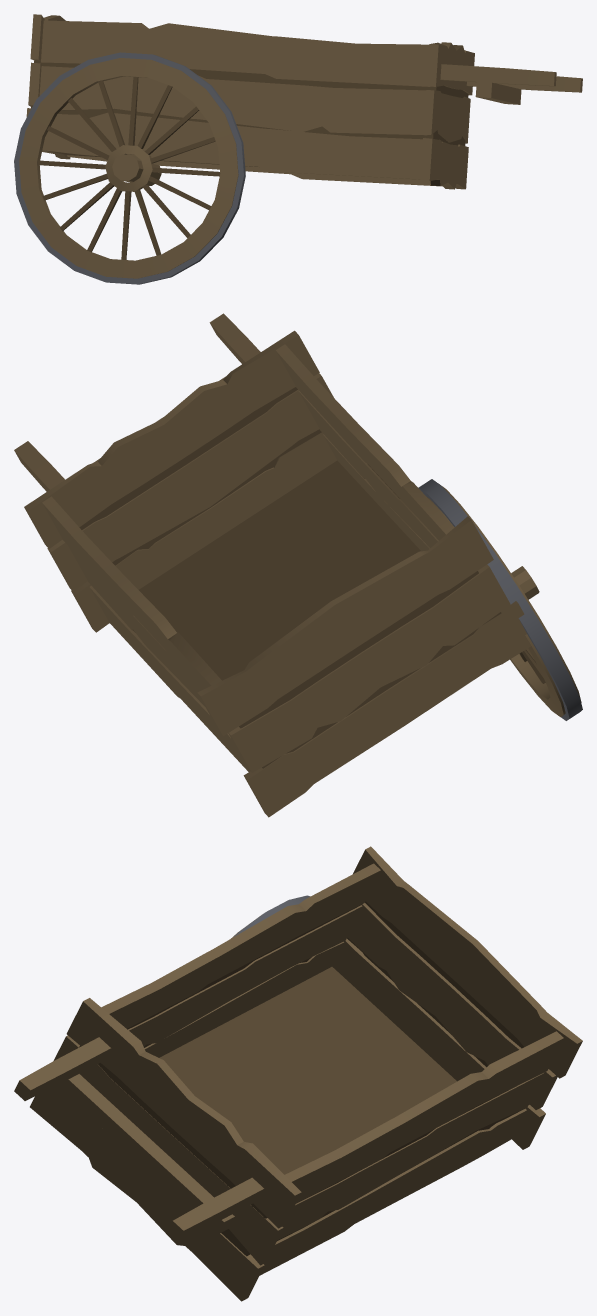
File: Cart.glb
3 renders of one model, top to bottom at view 1: azimuth 30°, elevation 25°; view 2: azimuth 150°, elevation 25°; view 3: azimuth 270°, elevation 25°, orthographic. The views are drawn at different scales.
Parts seen in each view (by area): view 1: Cart; view 2: Cart; view 3: Cart.
Part boxes in pixels (left/top/right/bottom): Cart: left=14, top=14, right=582, bottom=284; Cart: left=14, top=313, right=582, bottom=817; Cart: left=14, top=846, right=582, bottom=1301.
Size of the model in its own units: 3.31 by 1.38 by 2.83.
